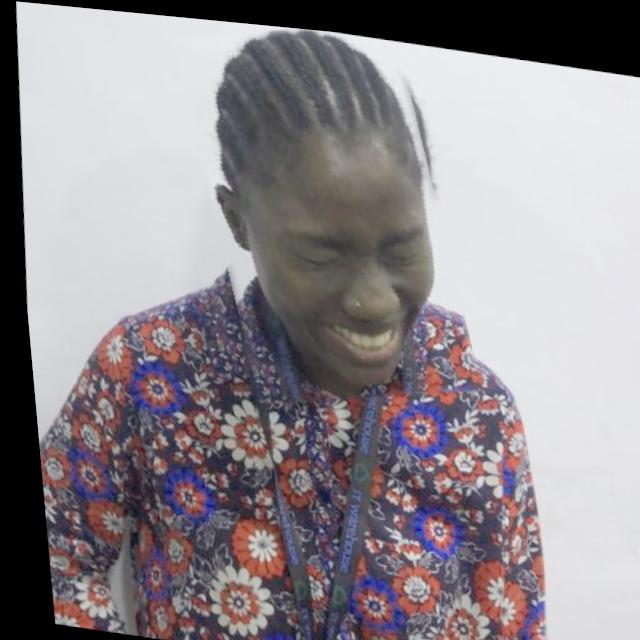happy: (169, 13, 478, 416)
